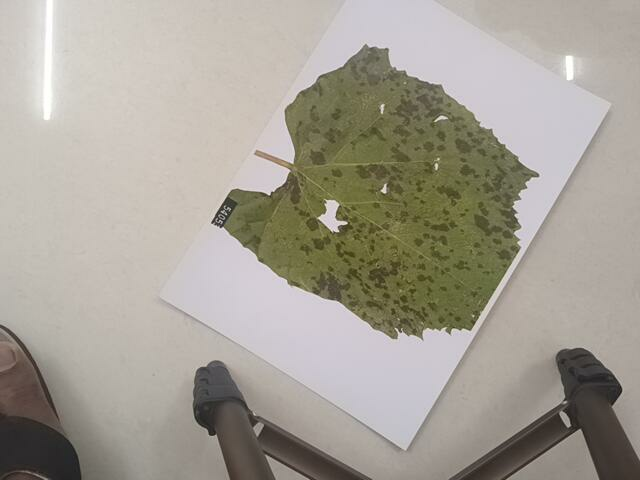Grape_Blight_Leaf: (223, 41, 525, 331)
